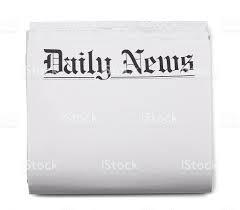Printing industry: (9, 13, 240, 210)
